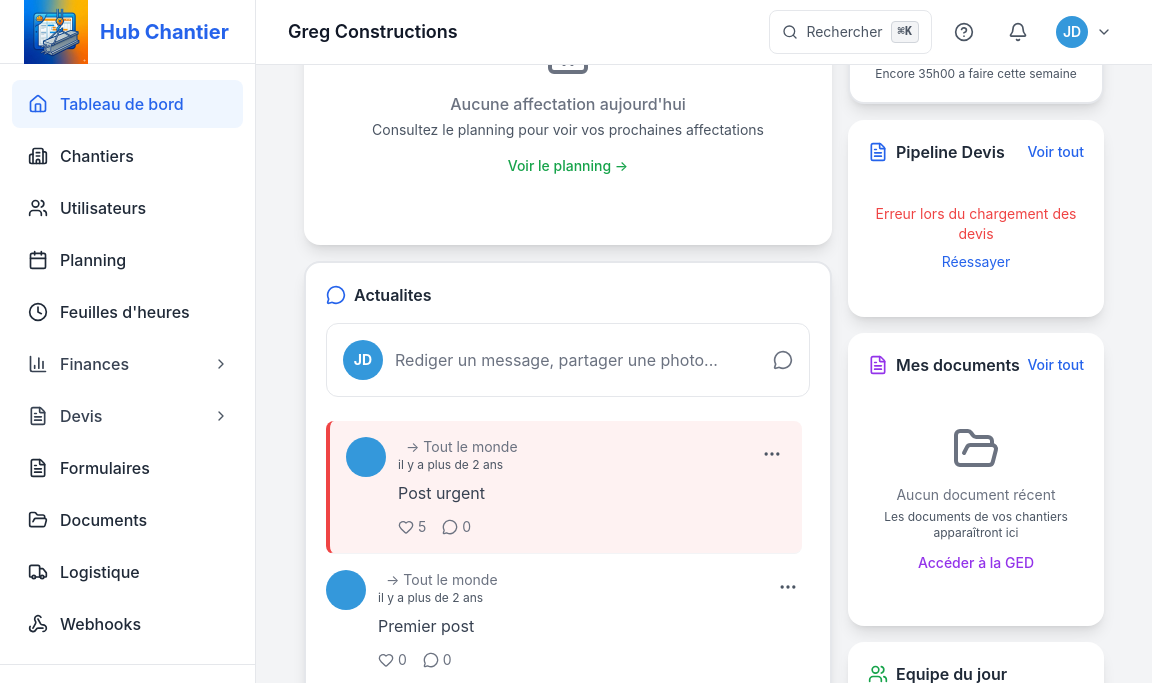
DashboardPage › Composer de post › desactive le bouton Publier si contenu vide
(page scrolled)
// Ouvrir le composeur
Click the text "Rediger un message, partager une photo...". click: (578, 360)
box: [395,348,761,372]
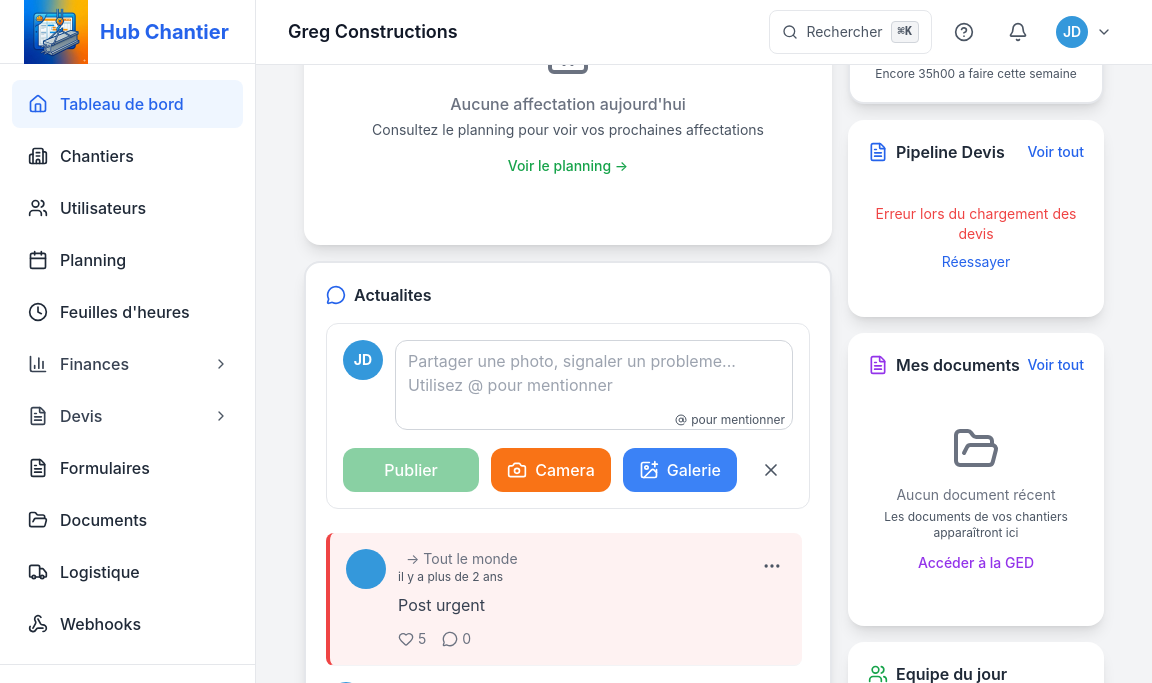
expect the button "Publier" is disabled: met, box [343,448,479,492]
